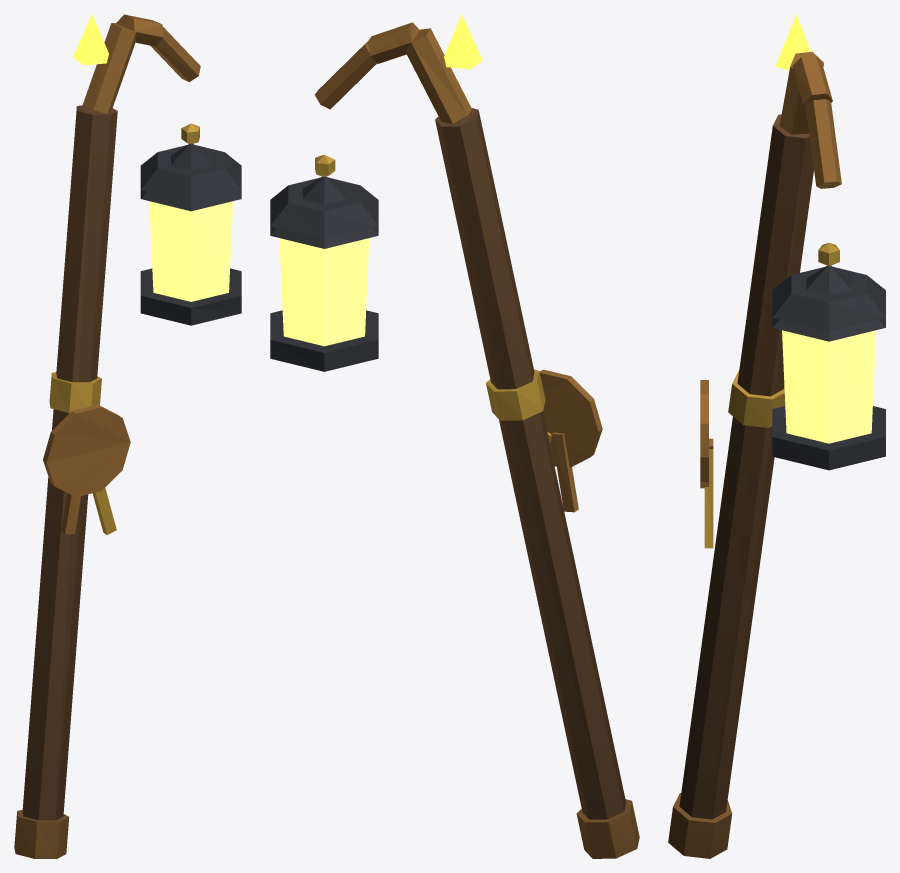
File: lighting_pole.glb
3 renders of one model, left to right at view 1: azimuth 30°, elevation 25°; view 2: azimuth 150°, elevation 25°; view 3: azimuth 270°, elevation 25°, orthographic. The views are drawn at different scales.
Parts seen in each view (by area): view 1: lighting_pole; view 2: lighting_pole; view 3: lighting_pole.
Boxes of the visible parts, bbox=[...] form: lighting_pole: bbox=[14, 14, 241, 858]; lighting_pole: bbox=[270, 14, 639, 858]; lighting_pole: bbox=[668, 14, 885, 858].
Bounding box in the file's own units: 0.3377 × 0.8952 × 0.1993.
